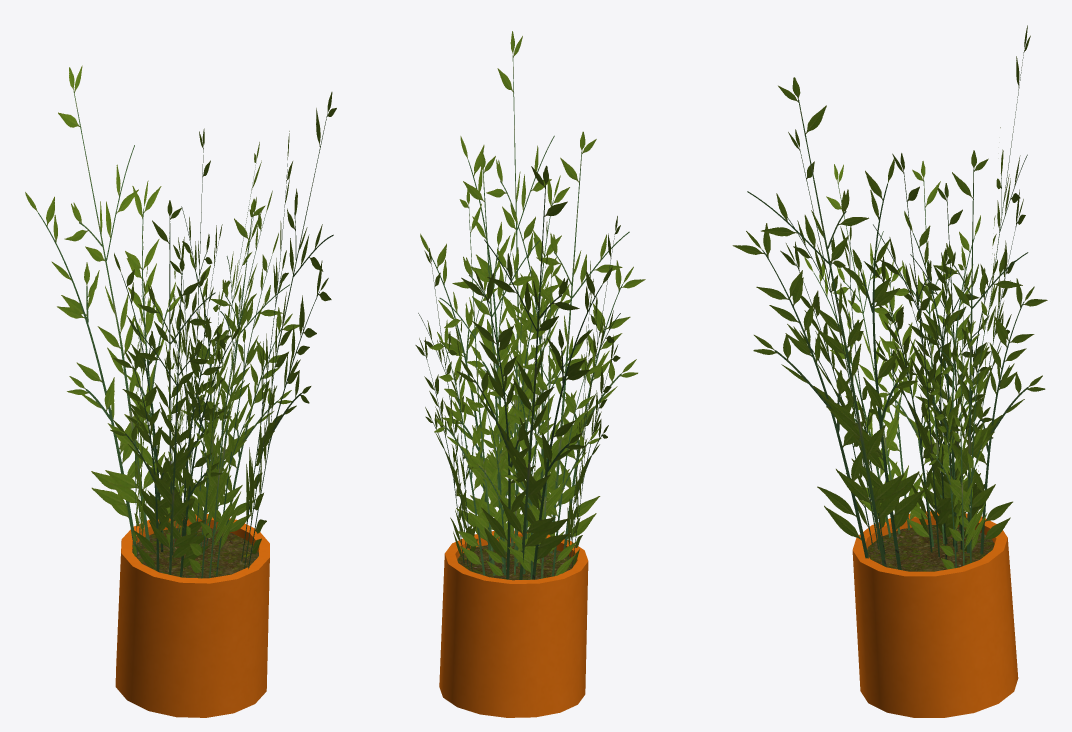
The model's file is palm_plant1.glb.
3 views of the same model, side by side, from view 1: azimuth 30°, elevation 25°; view 2: azimuth 150°, elevation 25°; view 3: azimuth 270°, elevation 25° (orthographic). The views are drawn at different scales.
Visible parts, largest first — view 1: Pot_11_Low_PolyPlant_0; view 2: Pot_11_Low_PolyPlant_0; view 3: Pot_11_Low_PolyPlant_0.
Boxes of the visible parts, x1,y1,x2,y2 form: Pot_11_Low_PolyPlant_0: (25, 65, 336, 717); Pot_11_Low_PolyPlant_0: (415, 31, 645, 717); Pot_11_Low_PolyPlant_0: (732, 25, 1047, 717).
Bounding box in the file's own units: 0.8642 × 1.96 × 0.9857.
1 material, 1 textured.
